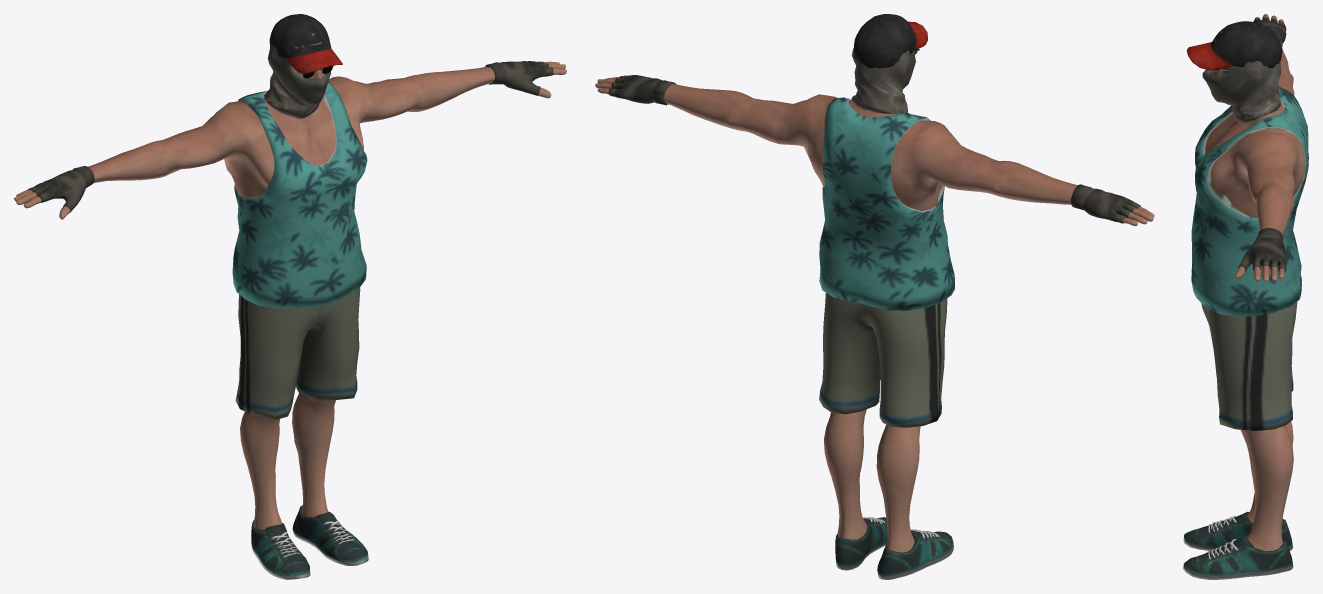
The model's file is gangster_rigged.glb.
3 renders of one model, left to right at view 1: azimuth 30°, elevation 25°; view 2: azimuth 150°, elevation 25°; view 3: azimuth 270°, elevation 25°, orthographic.
Parts seen in each view (by area): view 1: Gangster_Baked; view 2: Gangster_Baked; view 3: Gangster_Baked.
Part boxes in pixels (<box>): Gangster_Baked: <box>14,14,566,579</box>; Gangster_Baked: <box>595,14,1154,579</box>; Gangster_Baked: <box>1183,14,1308,579</box>.
Bounding box in the file's own units: 194 × 180 × 38.49.
1 material, 1 textured.
